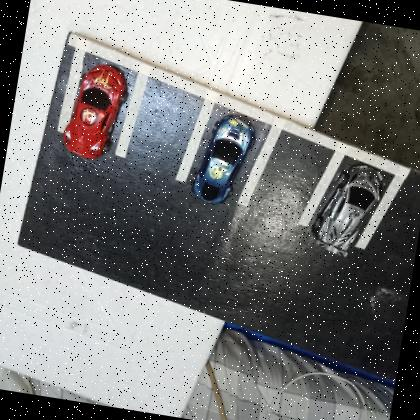Car: (309, 158, 389, 264), (58, 58, 134, 168), (186, 110, 260, 210)
